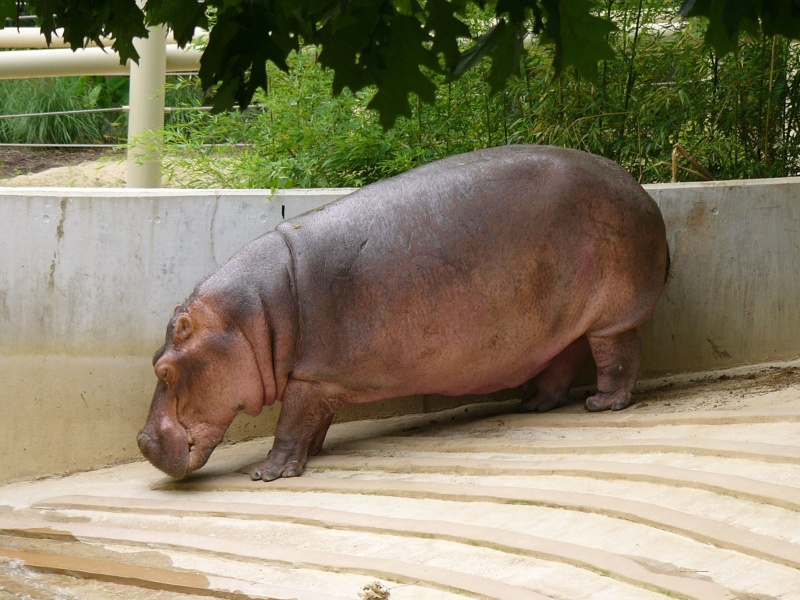hipopotamo: (137, 143, 673, 484)
